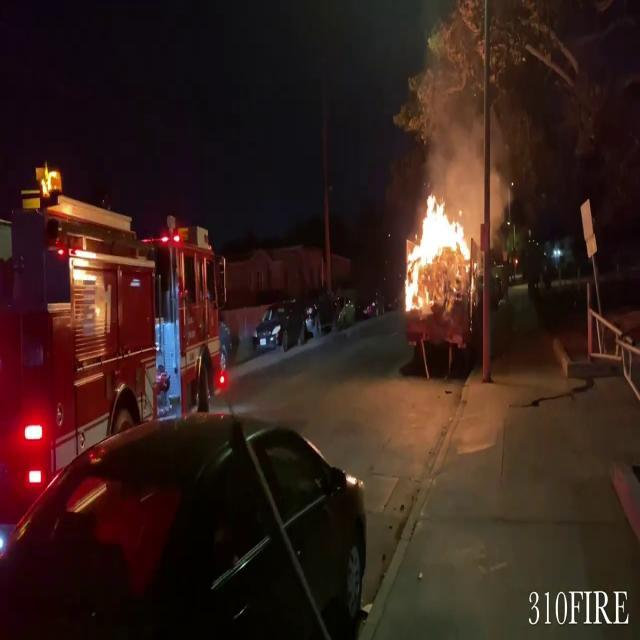Fire: (399, 189, 476, 315)
Smoke: (431, 83, 535, 229)
